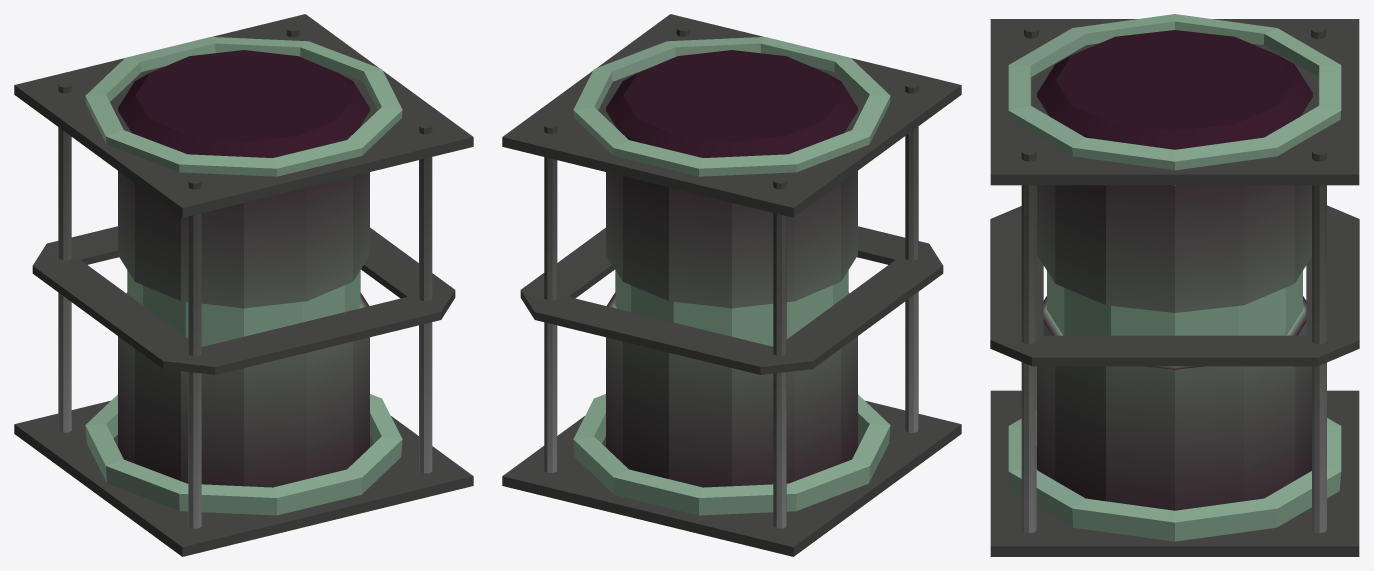
3 renders of one model, left to right at view 1: azimuth 30°, elevation 25°; view 2: azimuth 150°, elevation 25°; view 3: azimuth 270°, elevation 25°, orthographic. The views are drawn at different scales.
Parts seen in each view (by area): view 1: polySurface1; view 2: polySurface1; view 3: polySurface1.
Boxes of the visible parts, bbox=[...] form: polySurface1: bbox=[14, 14, 473, 556]; polySurface1: bbox=[502, 14, 961, 556]; polySurface1: bbox=[990, 14, 1359, 556].
Size of the model in its own units: 5.35 by 6.37 by 5.35.
1 material, 1 textured.
